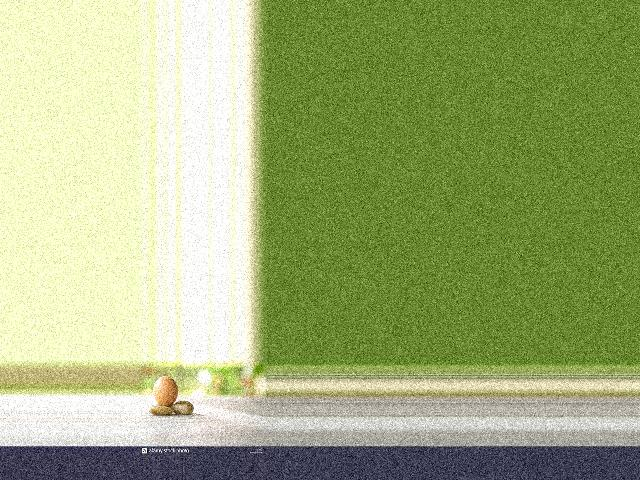egg: (153, 376, 178, 406)
